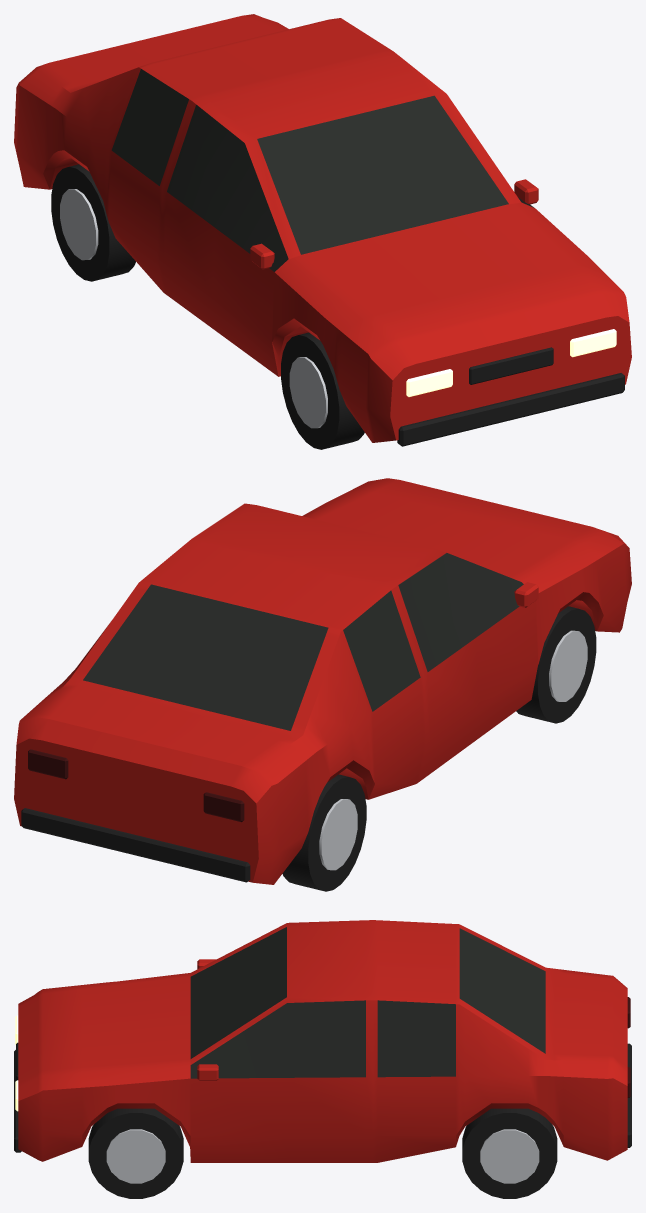
The model's file is auto_a.glb.
3 renders of one model, top to bottom at view 1: azimuth 30°, elevation 25°; view 2: azimuth 150°, elevation 25°; view 3: azimuth 270°, elevation 25°, orthographic. The views are drawn at different scales.
Visible parts, largest first — view 1: pieza_carroceria, auto_a_detalles, pieza_rueda_2, pieza_rueda_4, pieza_faros; view 2: pieza_carroceria, auto_a_detalles, pieza_rueda_4, pieza_rueda_2, pieza_luces_traseras; view 3: pieza_carroceria, auto_a_detalles, pieza_rueda_3, pieza_rueda_1.
Boxes of the visible parts, x1=… form: pieza_carroceria: x1=14, y1=14, x2=631, y2=442; auto_a_detalles: x1=111, y1=69, x2=624, y2=446; pieza_rueda_2: x1=281, y1=332, x2=364, y2=449; pieza_rueda_4: x1=51, y1=164, x2=135, y2=281; pieza_faros: x1=406, y1=329, x2=616, y2=396; pieza_carroceria: x1=14, y1=478, x2=631, y2=884; auto_a_detalles: x1=21, y1=553, x2=523, y2=882; pieza_rueda_4: x1=282, y1=774, x2=366, y2=891; pieza_rueda_2: x1=516, y1=606, x2=596, y2=723; pieza_luces_traseras: x1=28, y1=749, x2=244, y2=822; pieza_carroceria: x1=18, y1=920, x2=627, y2=1162; auto_a_detalles: x1=14, y1=927, x2=631, y2=1152; pieza_rueda_3: x1=462, y1=1108, x2=557, y2=1198; pieza_rueda_1: x1=88, y1=1108, x2=183, y2=1198.
Size of the model in its own units: 1.82 by 1.45 by 4.3.
